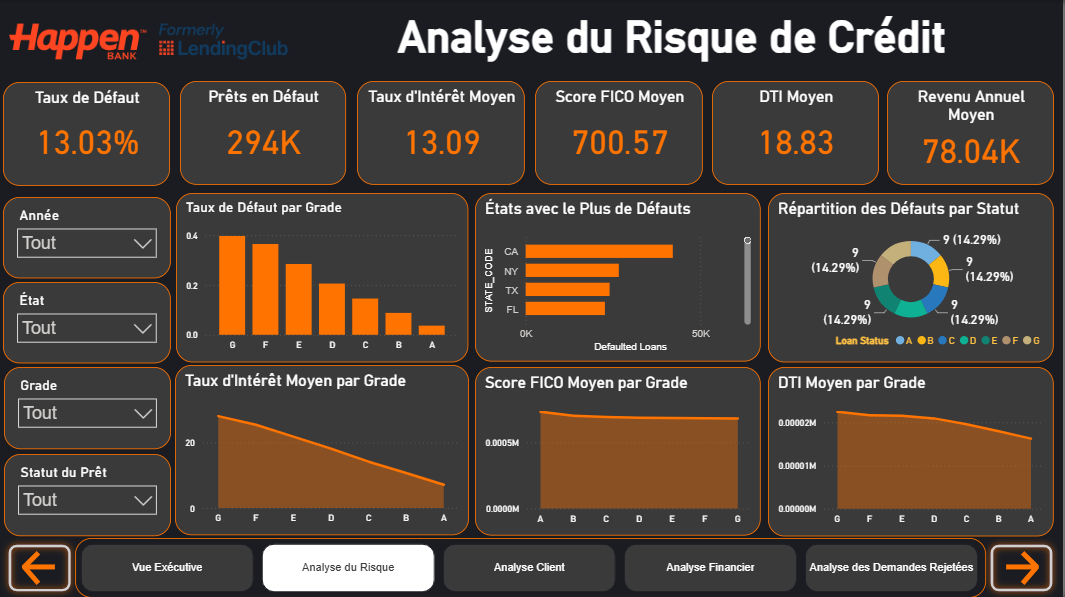

Layout of this report page (visuals, bound fields, positions):
{"tool":"powerbi","page":{"name":"Analyse du Risque","canvas":[1280,720],"ordinal":1},"visuals":[{"type":"image","box":[12,8.4,335.9,83.1],"z":0},{"type":"cardVisual","title":"Taux de Défaut","fields":{"Data":["MESURES.Default Rate %"]},"box":[5.1,98.3,201.1,124.5],"z":1000},{"type":"textbox","box":[360,8.4,900.6,80.7],"z":2000},{"type":"cardVisual","title":"Prêts en Défaut","fields":{"Data":["MESURES.Defaulted Loans"]},"box":[217.5,97.7,199.6,125.2],"z":3000},{"type":"cardVisual","title":"Taux d''Intérêt Moyen","fields":{"Data":["Avg(FACT_ACCEPTED_LOANS.INTEREST_RATE)"]},"box":[430.8,97.7,202.3,125.2],"z":4000},{"type":"cardVisual","title":"Score FICO Moyen","fields":{"Data":["MESURES.Average FICO"]},"box":[645.5,97.7,202.3,125.2],"z":5000},{"type":"cardVisual","title":"DTI Moyen","fields":{"Data":["Avg(FACT_ACCEPTED_LOANS.DTI)"]},"box":[858.8,97.7,200.9,125.2],"z":6000},{"type":"pageNavigator","box":[91.5,647.8,1096.9,72.2],"z":7000},{"type":"actionButton","box":[1186,647.8,90.3,72.2],"z":8000},{"type":"cardVisual","title":"Revenu Annuel Moyen","fields":{"Data":["Avg(FACT_ACCEPTED_LOANS.ANNUAL_INCOME)"]},"box":[1069.4,97.7,200.9,125.2],"z":9000},{"type":"slicer","fields":{"Values":["DIM_DATE.YEAR"]},"box":[5,236.7,201.7,98.3],"z":10000},{"type":"slicer","fields":{"Values":["DIM_STATE.STATE_CODE"]},"box":[5,340,201.7,98.3],"z":11000},{"type":"slicer","fields":{"Values":["DIM_GRADE.GRADE"]},"box":[6,441.9,201.1,98.7],"z":12000},{"type":"slicer","fields":{"Values":["DIM_LOAN_STATUS.LOAN_STATUS"]},"box":[6,546.6,201.1,98.7],"z":13000},{"type":"clusteredColumnChart","title":"Taux de Défaut par Grade","fields":{"Category":["DIM_GRADE.GRADE"],"Y":["MESURES.Default Rate %"]},"box":[213.3,232.6,352.3,203.7],"z":14000},{"type":"clusteredBarChart","title":"États avec le Plus de Défauts","fields":{"Category":["DIM_STATE.STATE_CODE"],"Y":["MESURES.Defaulted Loans"]},"box":[573.1,232.4,344.3,203.5],"z":15000},{"type":"lineChart","title":"Taux d''Intérêt Moyen par Grade","fields":{"Category":["DIM_GRADE.GRADE"],"Y":["Avg(FACT_ACCEPTED_LOANS.INTEREST_RATE)"]},"box":[212,439.1,353.7,205.1],"z":16000},{"type":"lineChart","title":"Score FICO Moyen par Grade","fields":{"Category":["DIM_GRADE.GRADE"],"Y":["MESURES.Average FICO"]},"box":[573.1,441.9,344.3,203.5],"z":17000},{"type":"donutChart","title":"Répartition des Défauts par Statut","fields":{"Category":["DIM_GRADE.GRADE"],"Y":["Count(DIM_LOAN_STATUS.LOAN_STATUS)"]},"box":[925.9,232.4,344.1,203.7],"z":18000},{"type":"lineChart","title":"DTI Moyen par Grade","fields":{"Category":["DIM_GRADE.GRADE"],"Y":["Avg(FACT_ACCEPTED_LOANS.DTI)"]},"box":[925.9,441.9,344.1,203.7],"z":19000},{"type":"actionButton","box":[3.9,647.7,90.7,72.3],"z":20000}]}

Visuals, with their boxes in screenshot pixels (x1, y1, x2, y2), scaled from the page's 1280x720 canvas onto the 1065x597 screenshot:
image: rect(10, 7, 289, 76)
"Taux de Défaut" cardVisual: rect(4, 82, 172, 185)
textbox: rect(300, 7, 1049, 74)
"Prêts en Défaut" cardVisual: rect(181, 81, 347, 185)
"Taux d''Intérêt Moyen" cardVisual: rect(358, 81, 527, 185)
"Score FICO Moyen" cardVisual: rect(537, 81, 705, 185)
"DTI Moyen" cardVisual: rect(715, 81, 882, 185)
pageNavigator: rect(76, 537, 989, 596)
actionButton: rect(987, 537, 1062, 596)
"Revenu Annuel Moyen" cardVisual: rect(890, 81, 1057, 185)
slicer - DIM_DATE.YEAR: rect(4, 196, 172, 278)
slicer - DIM_STATE.STATE_CODE: rect(4, 282, 172, 363)
slicer - DIM_GRADE.GRADE: rect(5, 366, 172, 448)
slicer - DIM_LOAN_STATUS.LOAN_STATUS: rect(5, 453, 172, 535)
"Taux de Défaut par Grade" clusteredColumnChart: rect(177, 193, 471, 362)
"États avec le Plus de Défauts" clusteredBarChart: rect(477, 193, 763, 361)
"Taux d''Intérêt Moyen par Grade" lineChart: rect(176, 364, 471, 534)
"Score FICO Moyen par Grade" lineChart: rect(477, 366, 763, 535)
"Répartition des Défauts par Statut" donutChart: rect(770, 193, 1057, 362)
"DTI Moyen par Grade" lineChart: rect(770, 366, 1057, 535)
actionButton: rect(3, 537, 79, 596)
